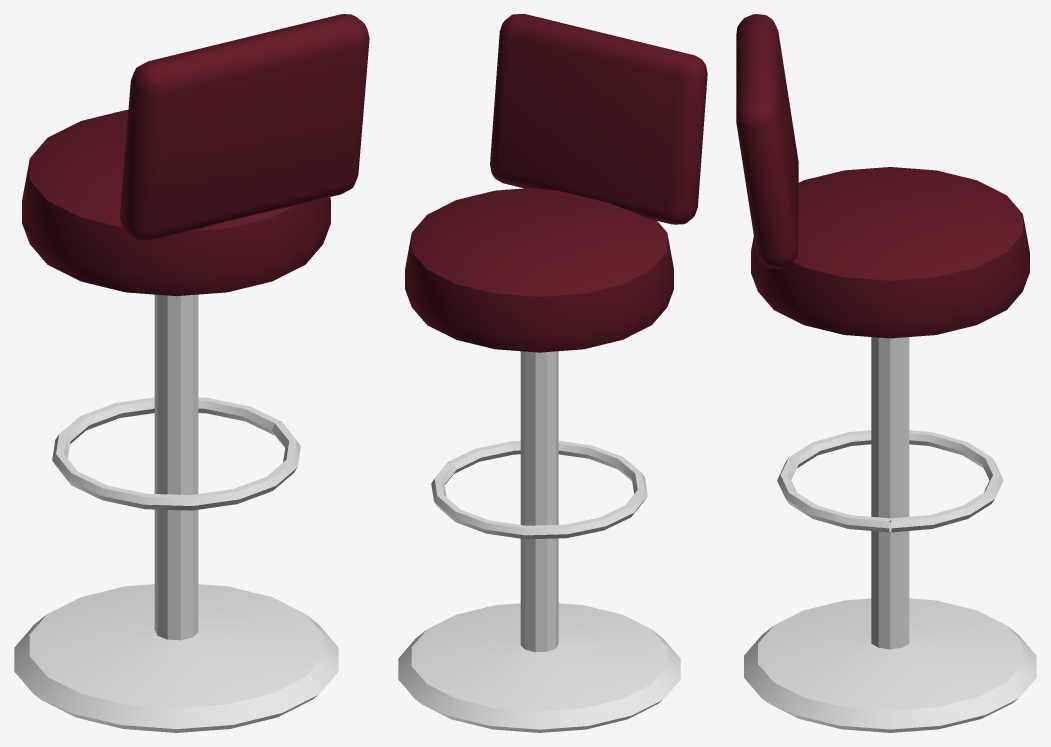
File: tideline_slot_stool.glb
3 renders of one model, left to right at view 1: azimuth 30°, elevation 25°; view 2: azimuth 150°, elevation 25°; view 3: azimuth 270°, elevation 25°, orthographic. The views are drawn at different scales.
Visible parts, largest first — view 1: tideline_slot_stool; view 2: tideline_slot_stool; view 3: tideline_slot_stool.
Boxes of the visible parts, x1,y1,x2,y2 form: tideline_slot_stool: (14,14,369,732); tideline_slot_stool: (398,14,707,732); tideline_slot_stool: (736,14,1036,732).
Size of the model in its own units: 0.42 by 0.9575 by 0.4245.
